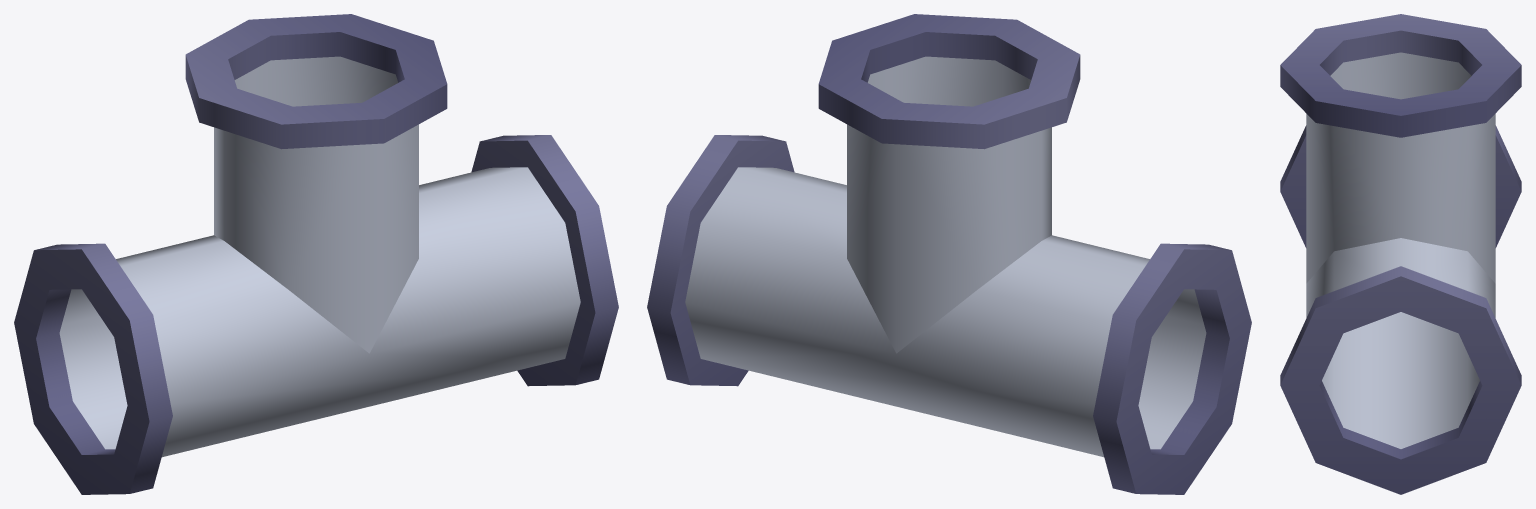
File: pipe_glass_large_side.glb
3 views of the same model, side by side, from view 1: azimuth 30°, elevation 25°; view 2: azimuth 150°, elevation 25°; view 3: azimuth 270°, elevation 25° (orthographic). The views are drawn at different scales.
Parts seen in each view (by area): view 1: pipe-glass-large-side; view 2: pipe-glass-large-side; view 3: pipe-glass-large-side.
Boxes of the visible parts, bbox=[...] form: pipe-glass-large-side: bbox=[14, 14, 618, 494]; pipe-glass-large-side: bbox=[647, 14, 1251, 494]; pipe-glass-large-side: bbox=[1280, 14, 1521, 494].
Size of the model in its own units: 2 by 1.5 by 1.
2 materials, 1 textured.
